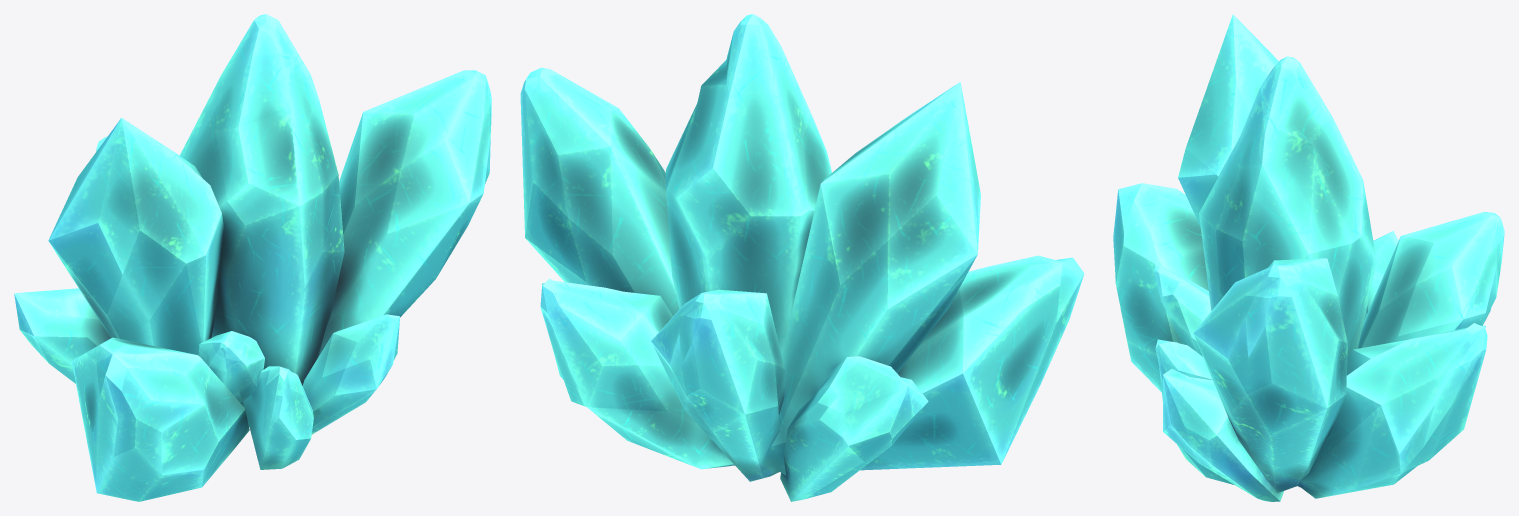
File: lgBlue.gltf
3 renders of one model, left to right at view 1: azimuth 30°, elevation 25°; view 2: azimuth 150°, elevation 25°; view 3: azimuth 270°, elevation 25°, orthographic. The views are drawn at different scales.
Visible parts, largest first — view 1: Object_14; view 2: Object_14; view 3: Object_14.
Part boxes in pixels (x1=…): Object_14: x1=14, y1=14, x2=491, y2=501; Object_14: x1=520, y1=14, x2=1084, y2=501; Object_14: x1=1113, y1=14, x2=1504, y2=501.
Bounding box in the file's own units: 2.77 × 2.46 × 2.
Materials: 1 (1 with a texture image).
